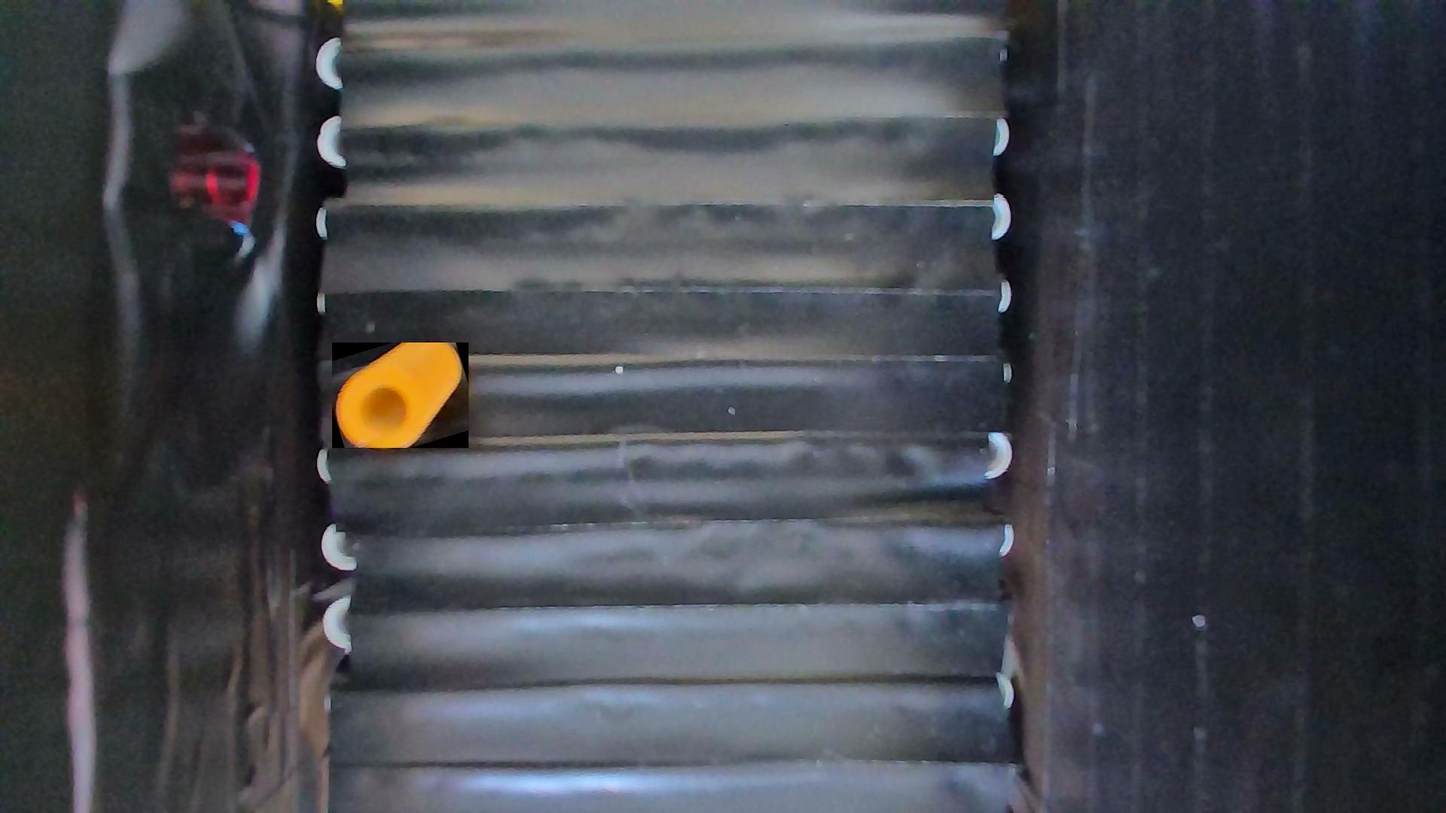spring: (333, 343, 470, 449)
